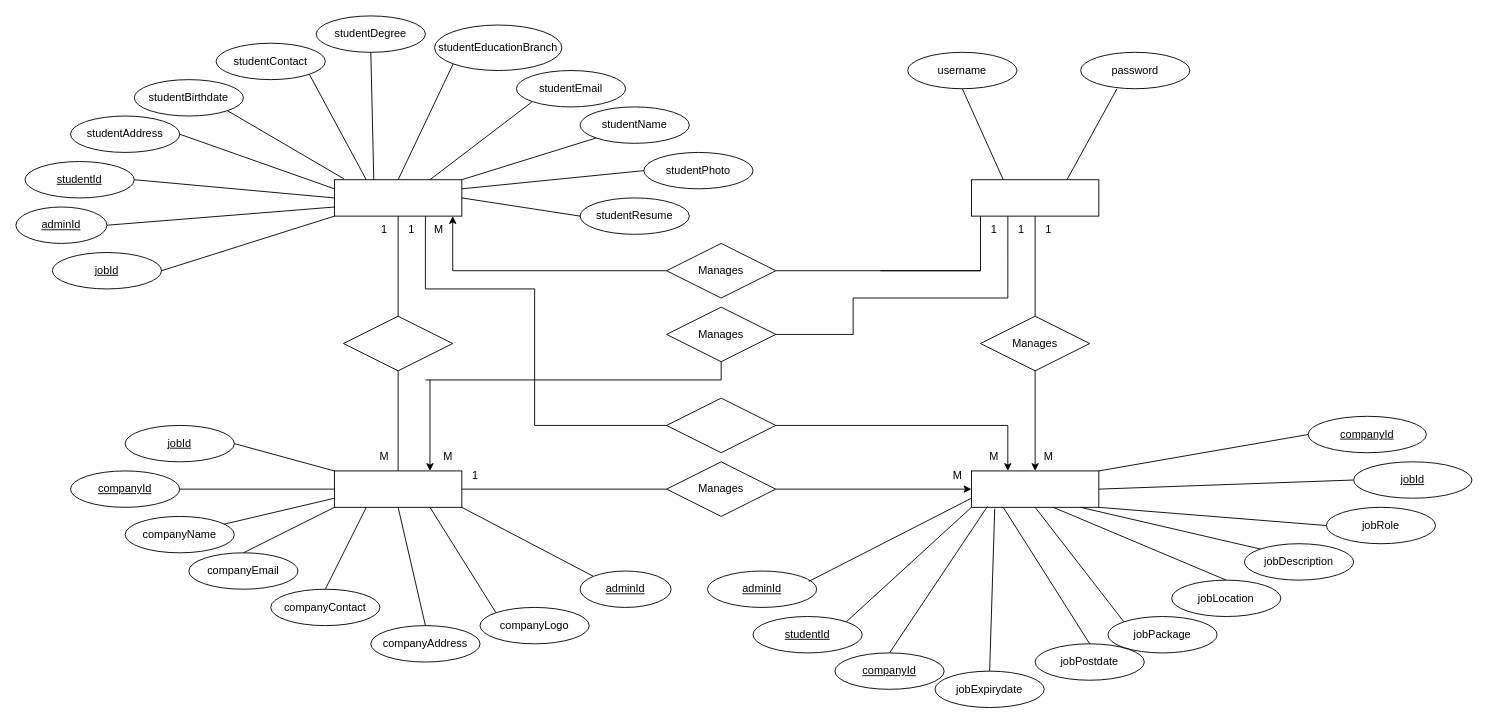
This 1488x723 diagram has some shape labels left out. Here are the shapes that lost their labels. From the top down, the box of each, then its label:
(334, 179, 462, 216): Student
(971, 179, 1099, 216): Admin
(343, 315, 453, 371): Placed
(666, 397, 776, 453): Apply
(334, 470, 462, 507): Company
(971, 470, 1099, 507): Job
